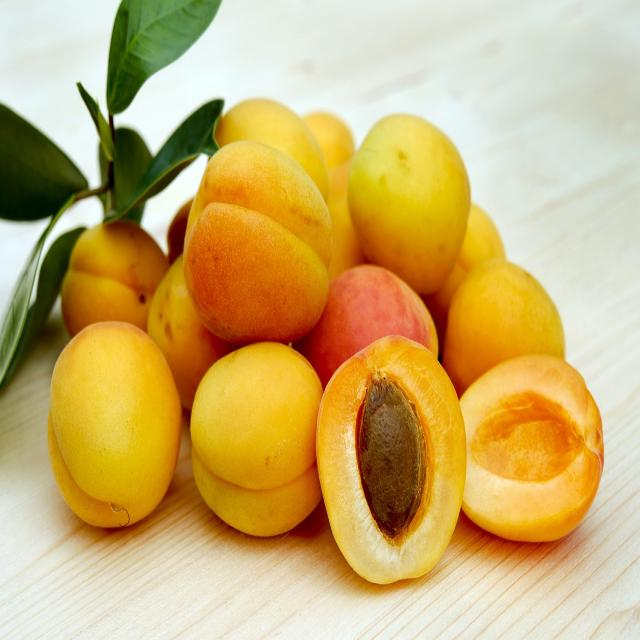cekirdek: (361, 385, 424, 540)
kayisi: (342, 360, 481, 586), (202, 159, 336, 335), (464, 366, 598, 521), (200, 348, 322, 494), (362, 115, 466, 272), (66, 353, 157, 482), (66, 253, 174, 348), (334, 270, 429, 365), (480, 267, 567, 370), (234, 108, 325, 182), (169, 284, 201, 368)
yaprak: (0, 0, 189, 256)
